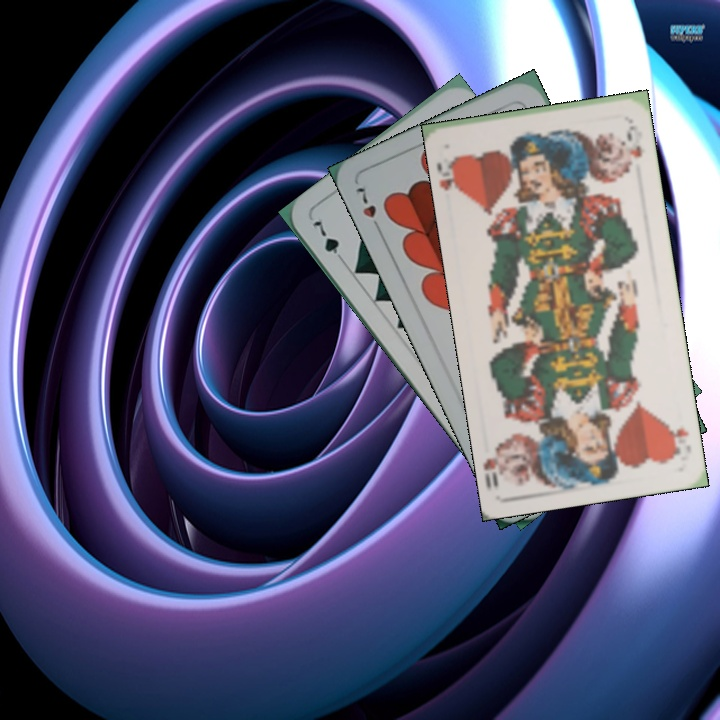G7: (308, 216, 348, 267)
H7: (352, 183, 385, 236)
HO: (434, 153, 467, 197), (663, 420, 692, 461)
